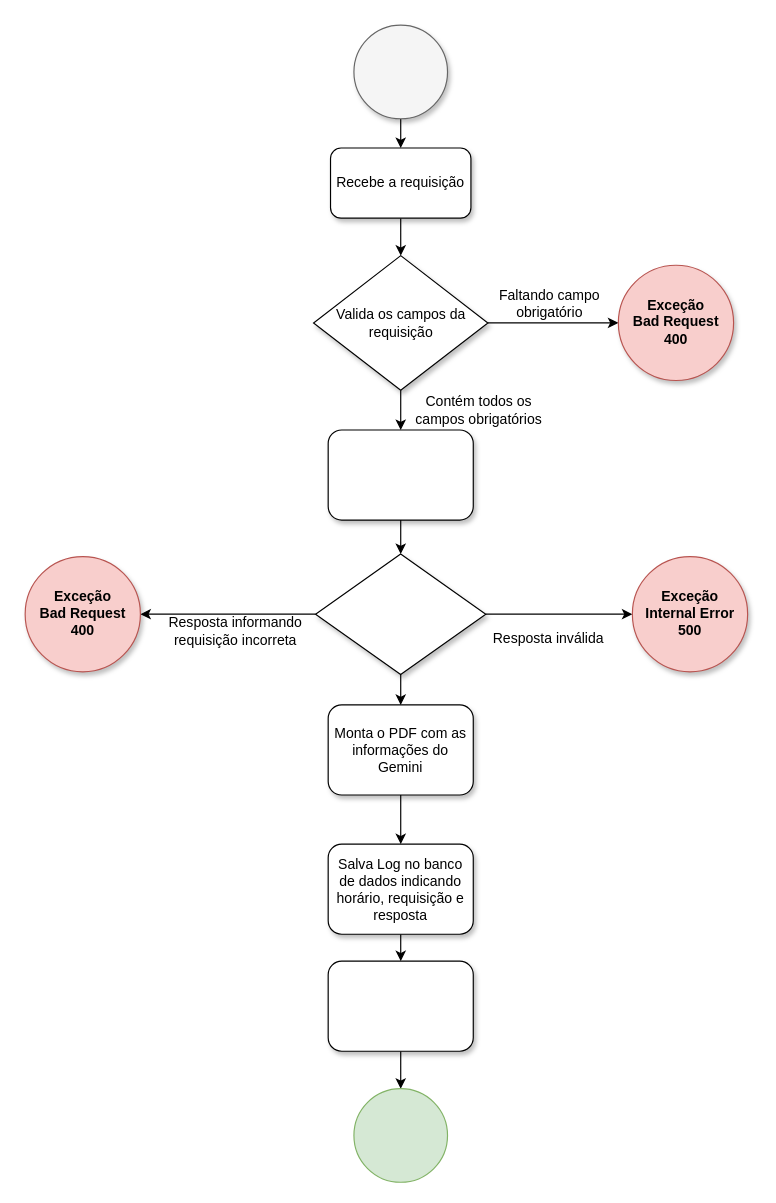
This 776x1203 diagram has some shape labels left out. Each missing label, with the centre of its shape:
"Requisição ao Gemini para solicitar o conteúdo da carta de motivação" goes at (x=401, y=476).
"Retorna PDF montado" goes at (x=401, y=1007).
"Valida resposta do Gemini" goes at (x=401, y=615).
